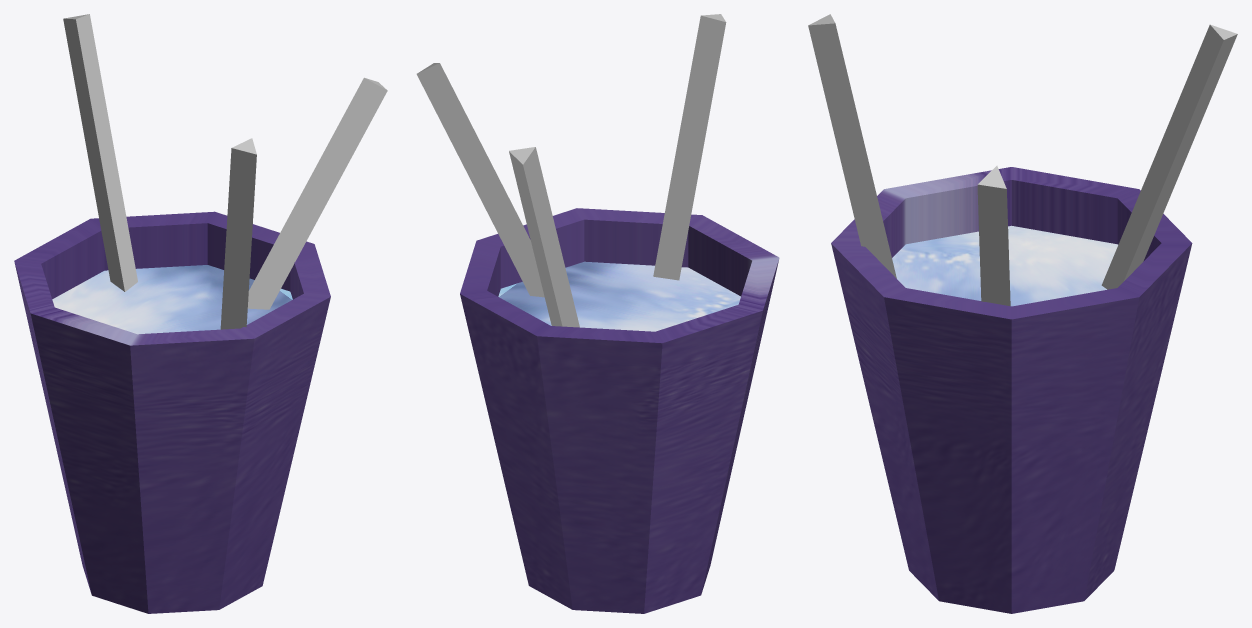
Rendered from brushCup.fbx.
3 views of the same model, side by side, from view 1: azimuth 30°, elevation 25°; view 2: azimuth 150°, elevation 25°; view 3: azimuth 270°, elevation 25° (orthographic). The views are drawn at different scales.
Visible parts, largest first — view 1: water_brush:pCylinder1, water_brush:pCylinder2, water_brush:pCylinder4, water_brush:pCylinder3; view 2: water_brush:pCylinder1, water_brush:pCylinder3, water_brush:pCylinder4, water_brush:pCylinder2; view 3: water_brush:pCylinder1, water_brush:pCylinder2, water_brush:pCylinder3, water_brush:pCylinder4.
Boxes of the visible parts, box(x1,y1,x2,y2) form: water_brush:pCylinder1: box(14, 211, 330, 613); water_brush:pCylinder2: box(63, 14, 137, 291); water_brush:pCylinder4: box(247, 77, 387, 309); water_brush:pCylinder3: box(220, 138, 256, 329); water_brush:pCylinder1: box(460, 208, 779, 613); water_brush:pCylinder3: box(653, 14, 726, 280); water_brush:pCylinder4: box(416, 63, 544, 297); water_brush:pCylinder2: box(509, 147, 579, 327); water_brush:pCylinder1: box(831, 167, 1192, 613); water_brush:pCylinder2: box(1101, 24, 1237, 289); water_brush:pCylinder3: box(808, 14, 896, 278); water_brush:pCylinder4: box(977, 165, 1010, 306).
Size of the model in its own units: 0.8098 by 1.11 by 0.7916.
